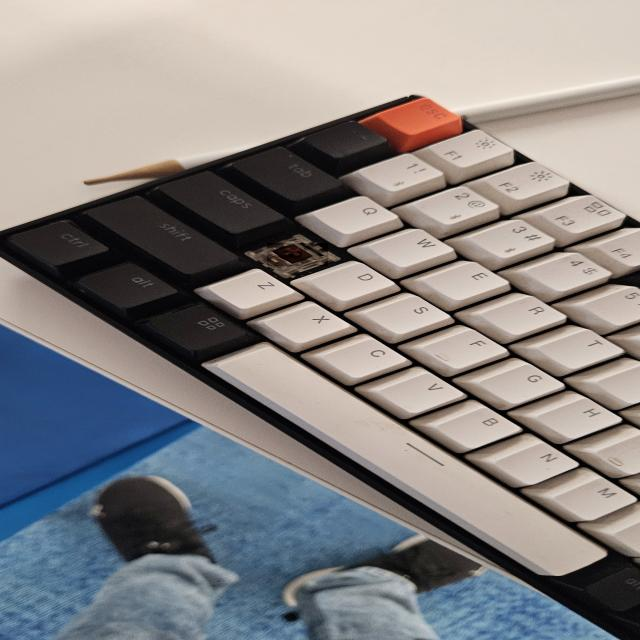C: (267, 243, 328, 266)
